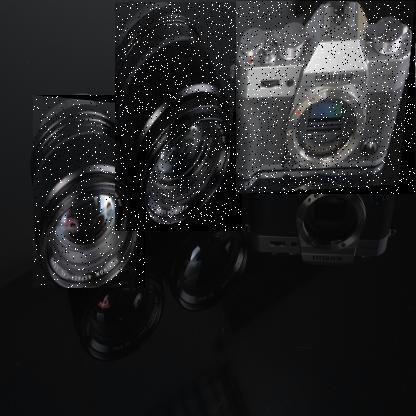Camera: (237, 2, 416, 196), (116, 3, 244, 233), (34, 96, 147, 290)
